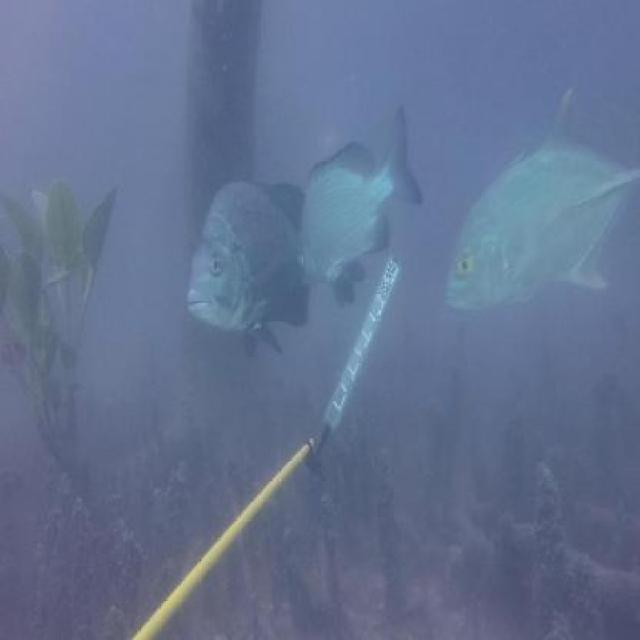Caranx: (444, 78, 640, 318)
acanthopagrus_palmaris: (184, 172, 367, 358), (292, 100, 426, 309)
